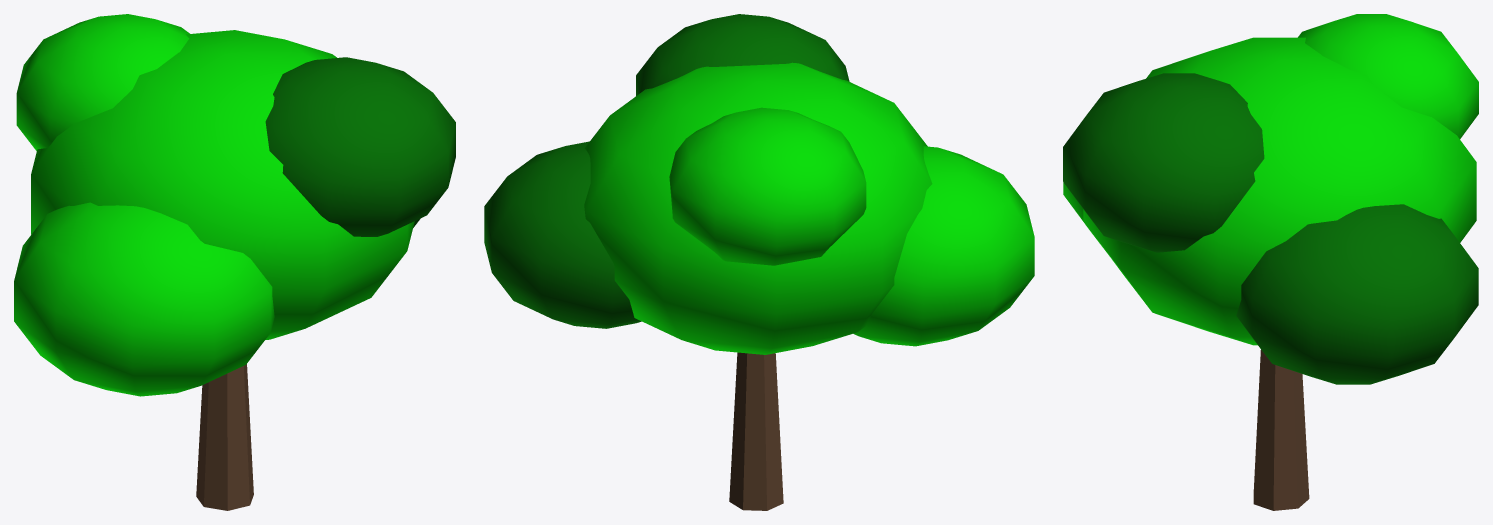
Rendered from Tree_Oak.fbx.
3 views of the same model, side by side, from view 1: azimuth 30°, elevation 25°; view 2: azimuth 150°, elevation 25°; view 3: azimuth 270°, elevation 25° (orthographic). The views are drawn at different scales.
Visible parts, largest first — view 1: Tree_Oak; view 2: Tree_Oak; view 3: Tree_Oak.
Boxes of the visible parts, box(x1,y1,x2,y2) form: Tree_Oak: box(14, 14, 455, 510); Tree_Oak: box(484, 14, 1034, 510); Tree_Oak: box(1063, 14, 1478, 510).
Bounding box in the file's own units: 5.79 × 5.36 × 4.54.
